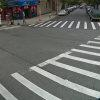Crosswalk: (9, 53, 100, 100)
